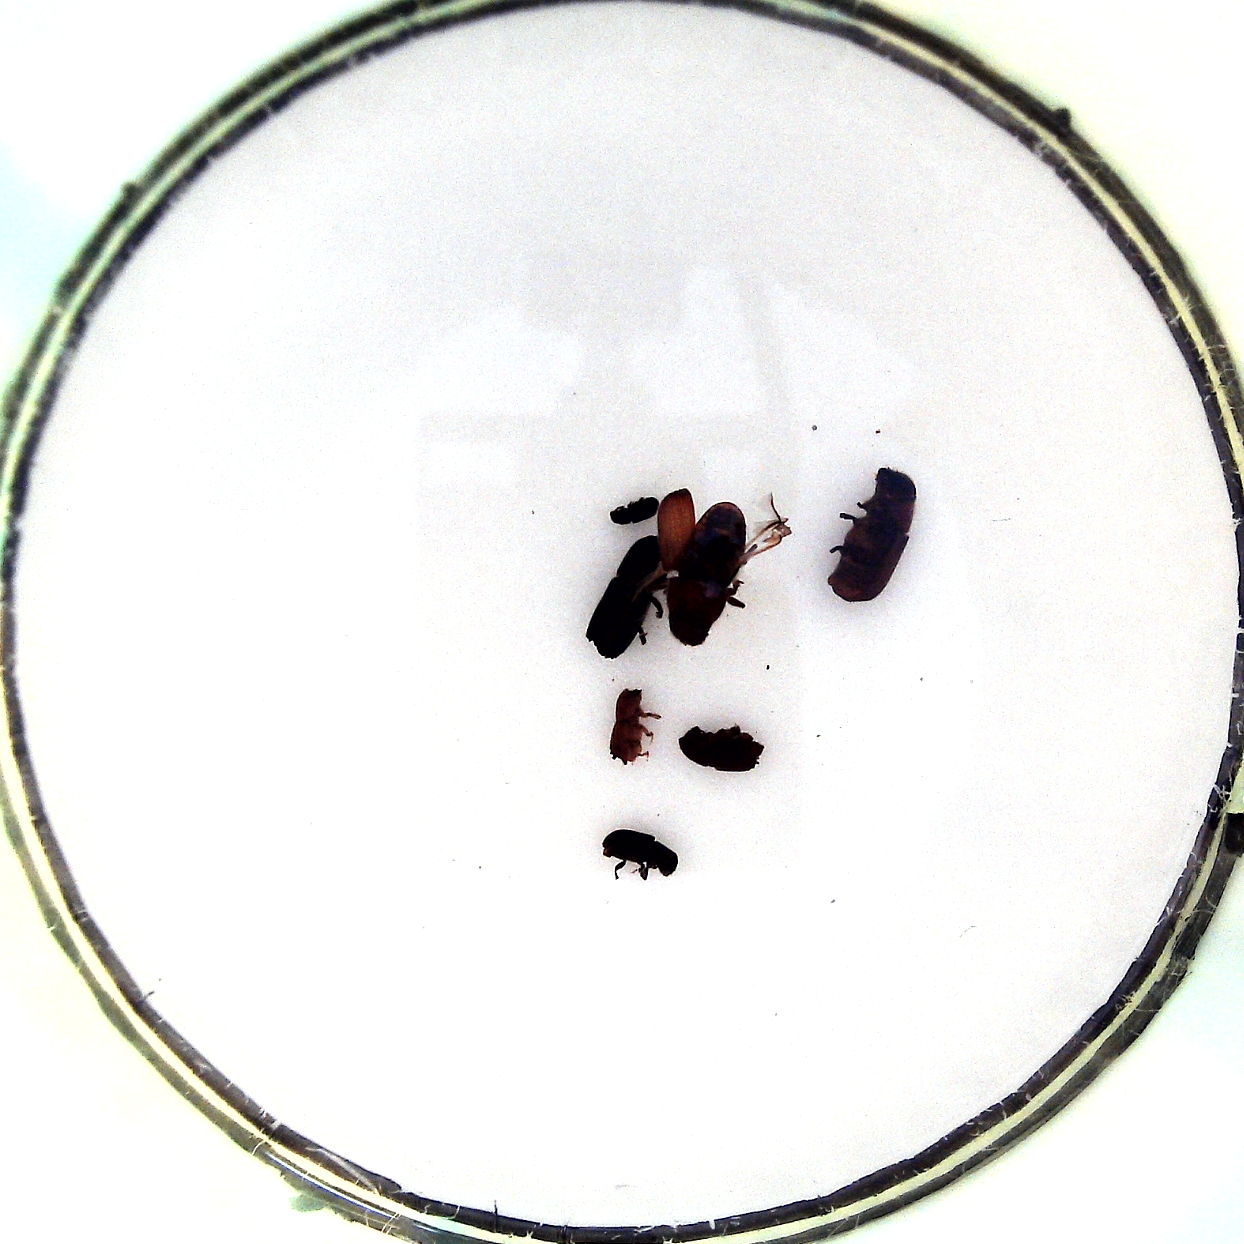Boerner: (584, 535, 665, 666)
Leconte: (660, 489, 791, 647), (821, 466, 917, 604)
Linnaeus: (676, 721, 763, 776)
acuminatus: (611, 686, 665, 770)
armandi: (601, 822, 681, 887)
coleoptera: (601, 489, 657, 529)
